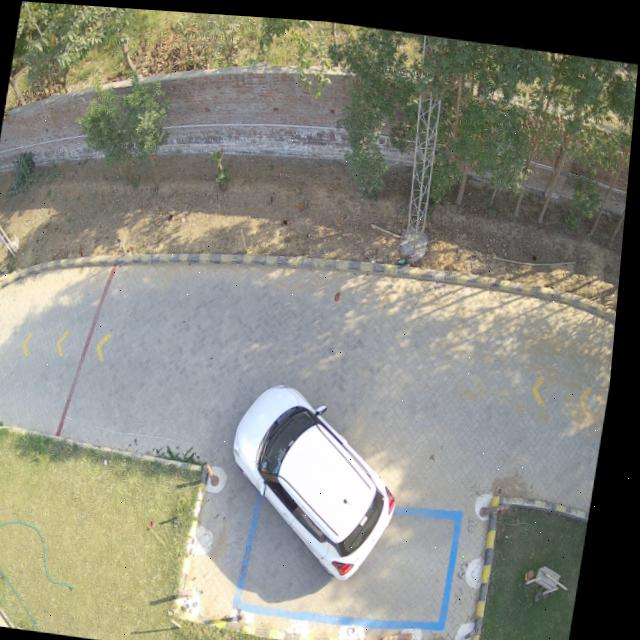car: (241, 383, 404, 576)
